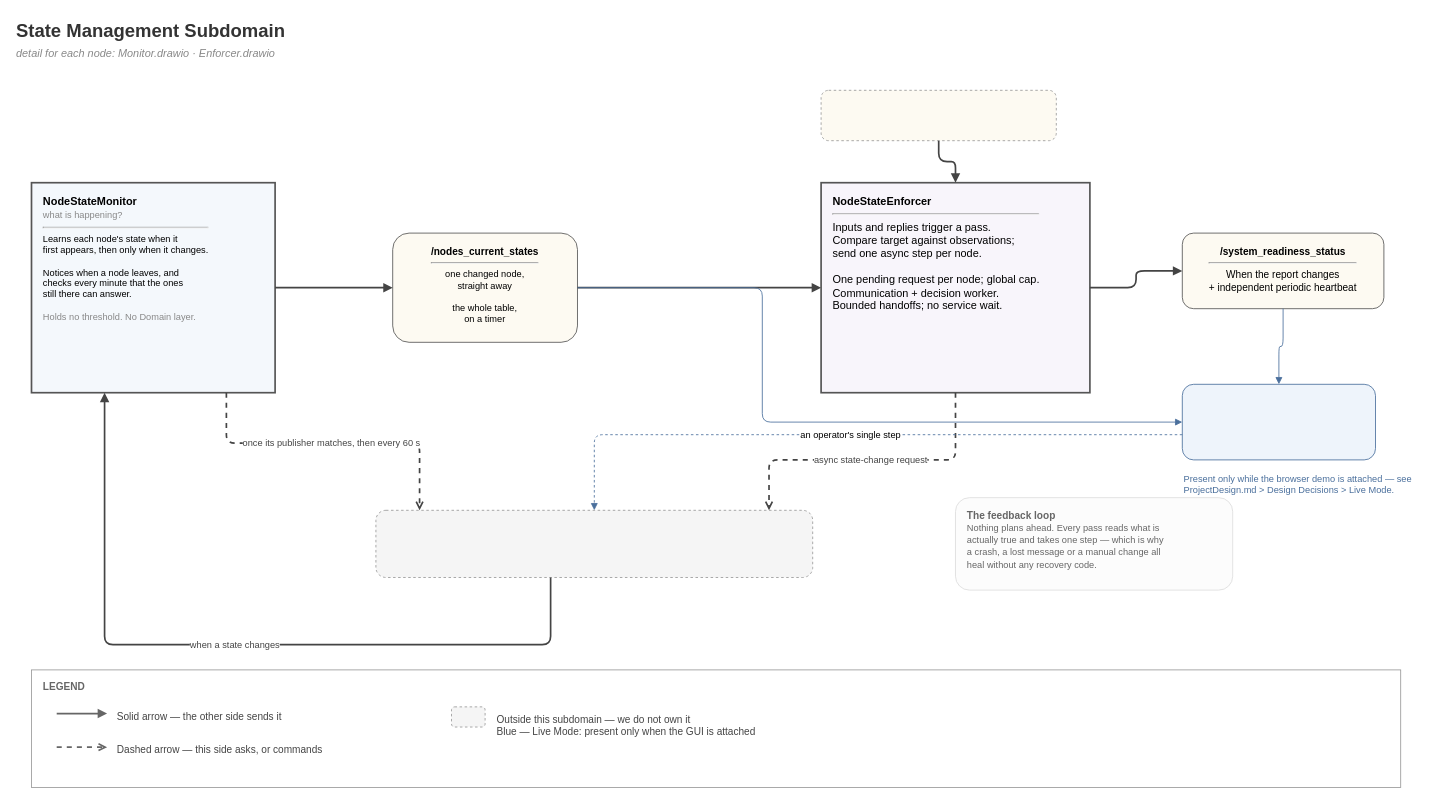
This 1448x802 diagram has some shape labels left out. The shapes that lost their labels are listed below. From the top down, each one's centre as x and y in pixels, then its label:
[938,115]: /daytime from outside · the current time
[1278,421]: live_bridge Watches, and relays to a browser. Decides nothing.
[594,543]: Managed lifecycle nodes 100+ · outside this subdomain
